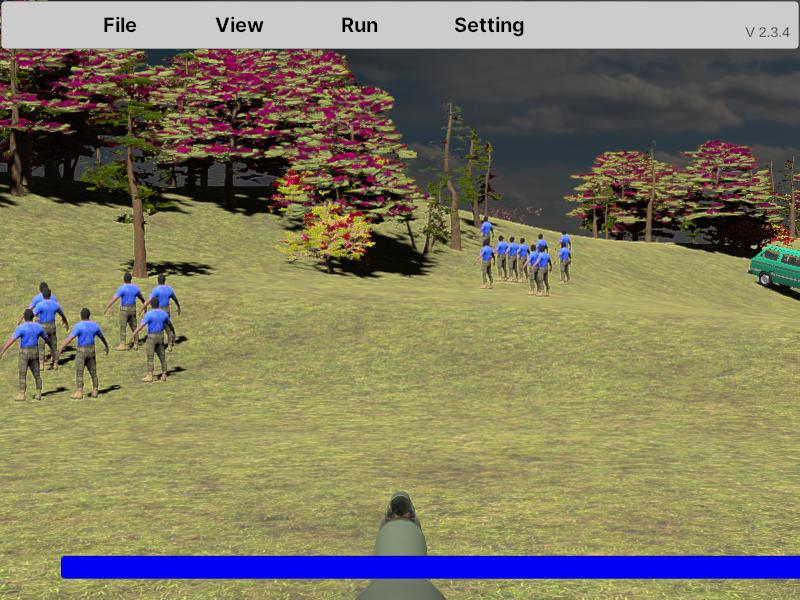Human: (0, 308, 54, 402), (57, 307, 109, 399), (24, 284, 71, 374), (26, 284, 70, 372), (134, 298, 176, 381), (105, 272, 147, 352), (142, 273, 181, 355)
car: (748, 245, 800, 305)
